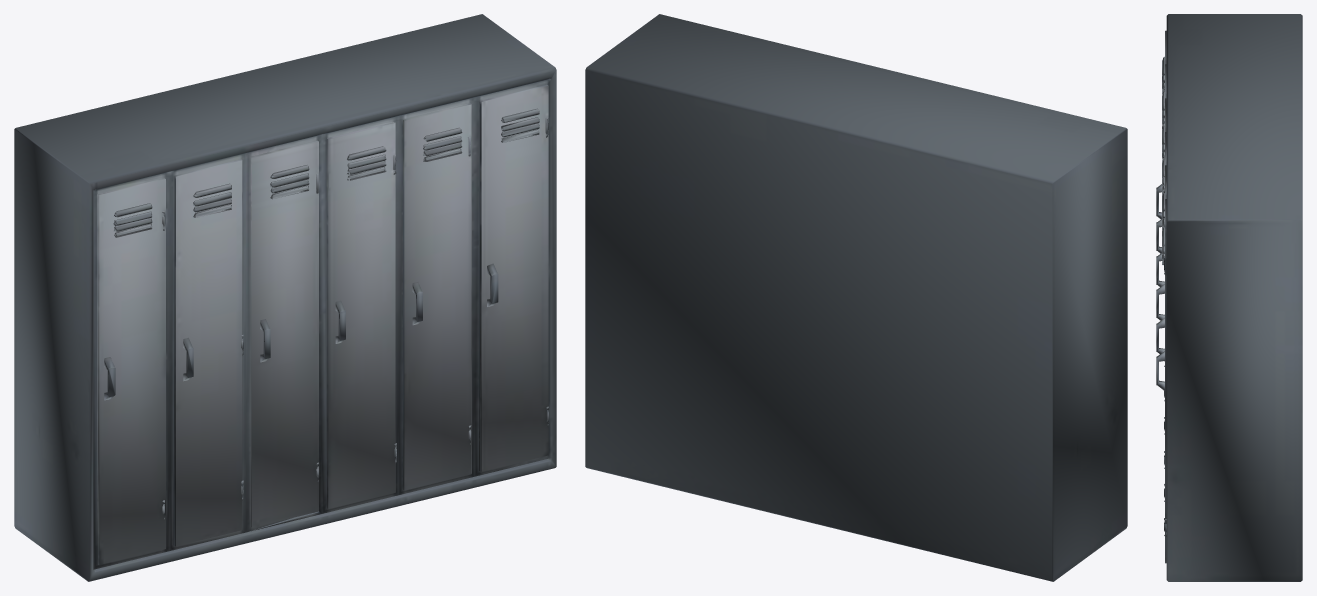
File: piscina_armarios.glb
The picture shows the model from 3 angles, left to right: view 1: azimuth 30°, elevation 25°; view 2: azimuth 150°, elevation 25°; view 3: azimuth 270°, elevation 25°; orthographic projection. The views are drawn at different scales.
Parts seen in each view (by area): view 1: Six Door Steel Locker; view 2: Six Door Steel Locker; view 3: Six Door Steel Locker.
Part boxes in pixels (x1,y1,x2,y2): Six Door Steel Locker: (14, 14, 556, 581); Six Door Steel Locker: (585, 14, 1127, 581); Six Door Steel Locker: (1156, 14, 1302, 581).
Bounding box in the file's own units: 0.9941 × 0.8145 × 0.2988.
1 material, 1 textured.
